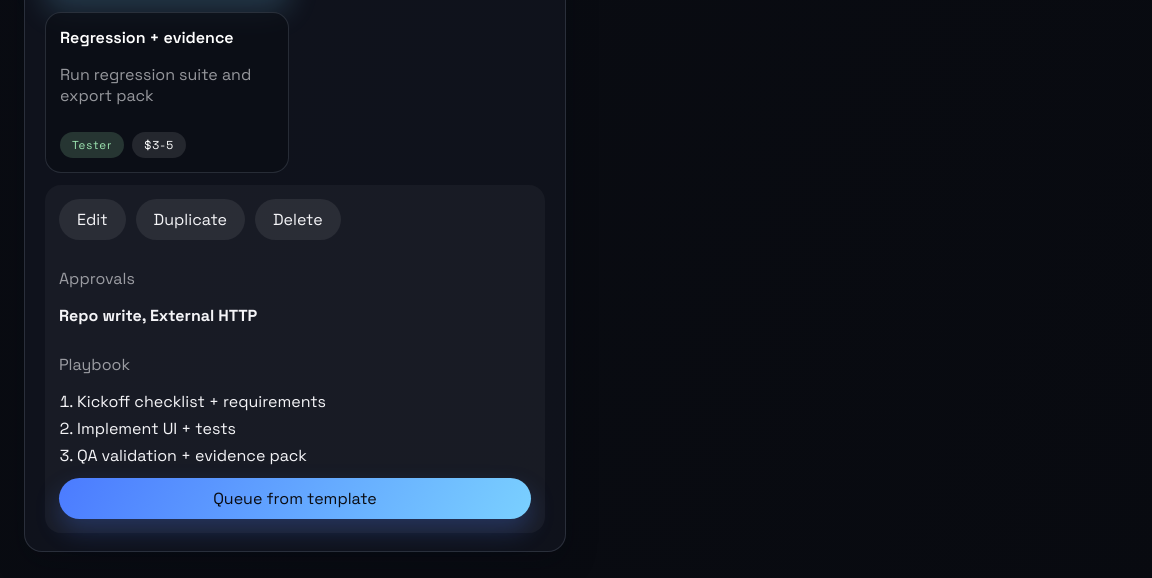
Test: queues a run from the selected template card
(page scrolled)
Click the button "Queue from template": click(295, 499) 59,478 -> 531,519
(page scrolled)
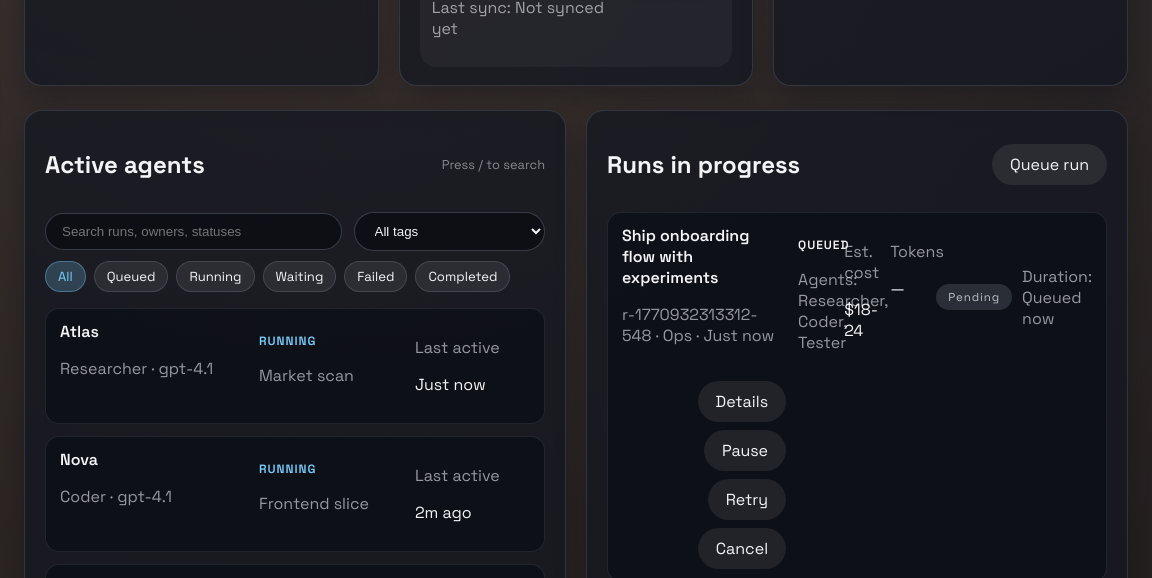
Check: the text "Ship onboarding flow with experiments" is shown, box 622,225 -> 749,288
